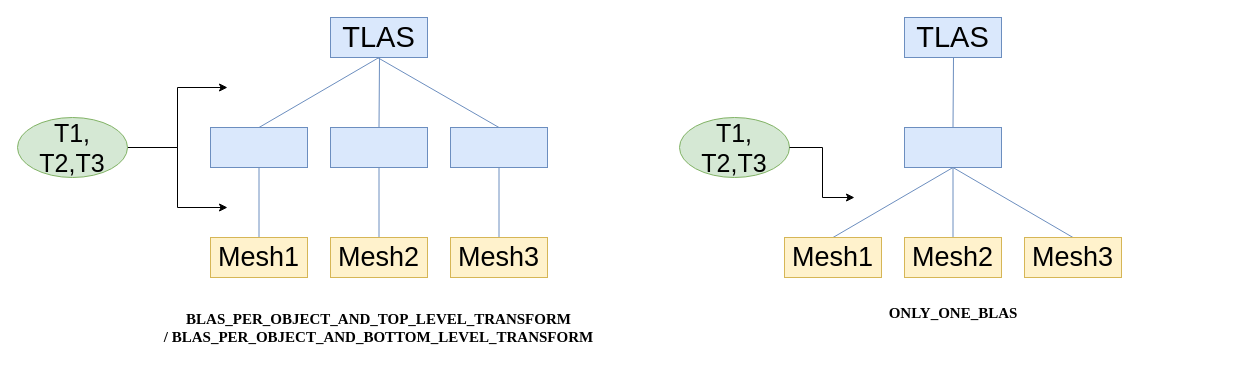
Image size: 1243x375. Some labels were removed from this diagram. Each missing label, with the box of its shape:
BLAS: (904, 126, 1002, 168)
BLAS1: (210, 126, 308, 168)
BLAS2: (330, 126, 428, 168)
BLAS3: (450, 126, 548, 168)
